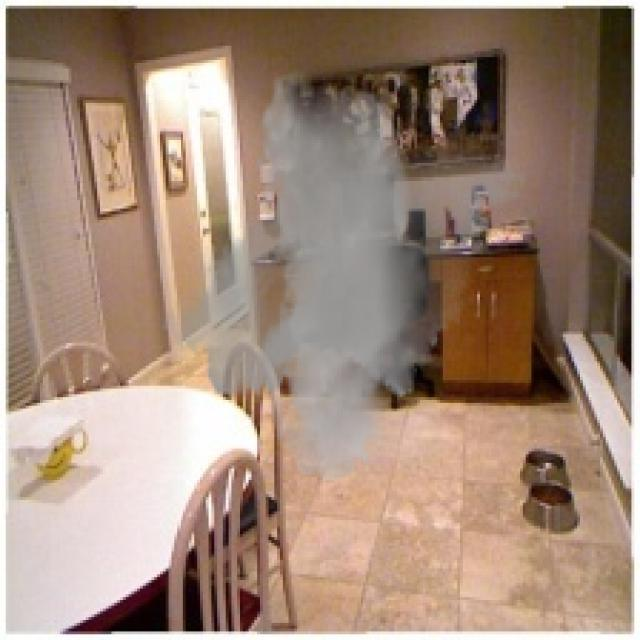Smoke: (160, 68, 529, 483)
